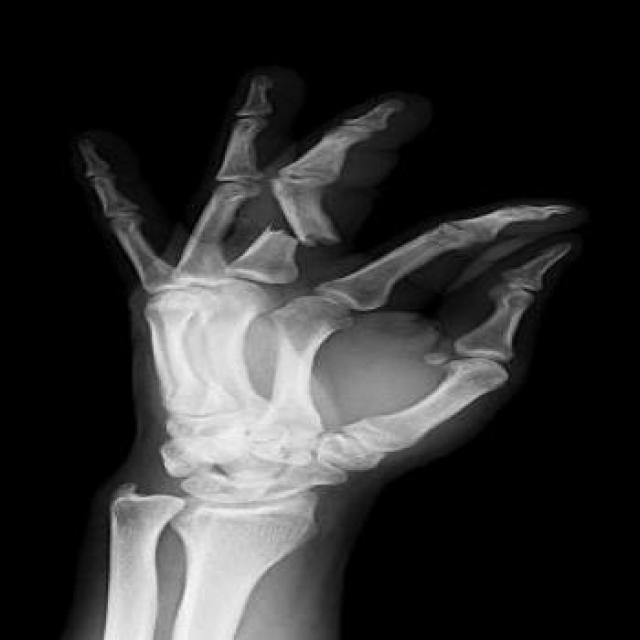Fracture: (249, 216, 353, 250)
